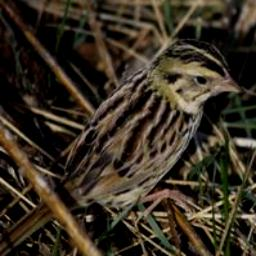Sparrow: (0, 32, 247, 256)
